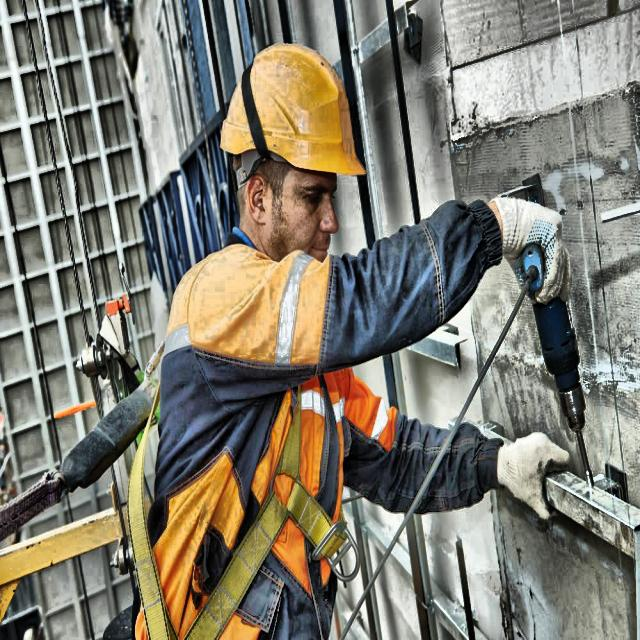helmet: (215, 22, 374, 289)
